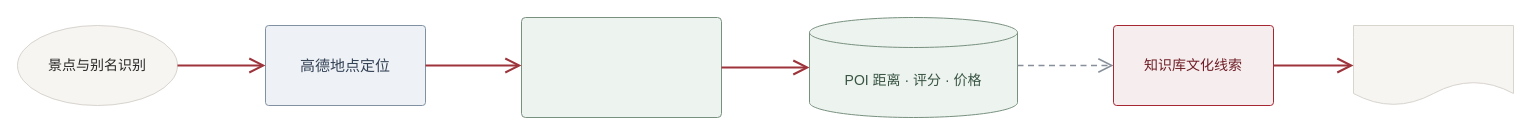
Image size: 1531x135. Some labels were removed from this diagram. The shapes that lost their labels are listed below. From the top down, each one's centre as x and y in pixels, then its label:
(x=621, y=67): 周边类别与半径查询
(x=1433, y=65): 折叠卡片与导航
